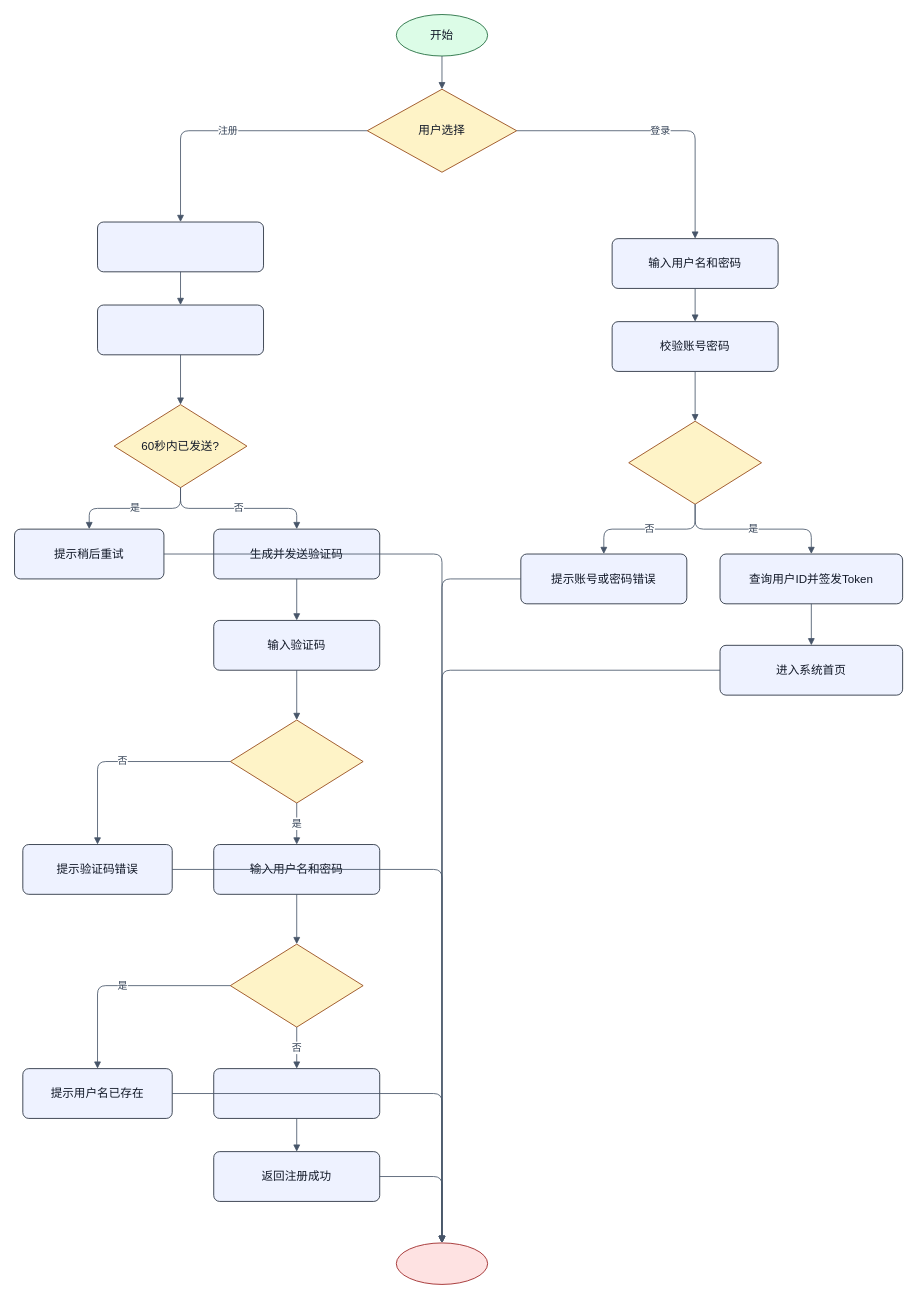
Some shapes in this 917 by 1299 pixel diagram are drawn without their labels. The shapes that lost their labels are listed below. From the top down, each one's box as (x1, y1, x2, y2) in pixels, then its label:
(97, 221, 264, 272): 输入手机号
(97, 304, 264, 355): 请求发送验证码
(628, 420, 762, 504): 校验通过?
(229, 719, 363, 803): 验证码正确?
(229, 943, 363, 1027): 用户名已存在?
(213, 1068, 380, 1118): 创建账号
(395, 1242, 488, 1284): 结束
